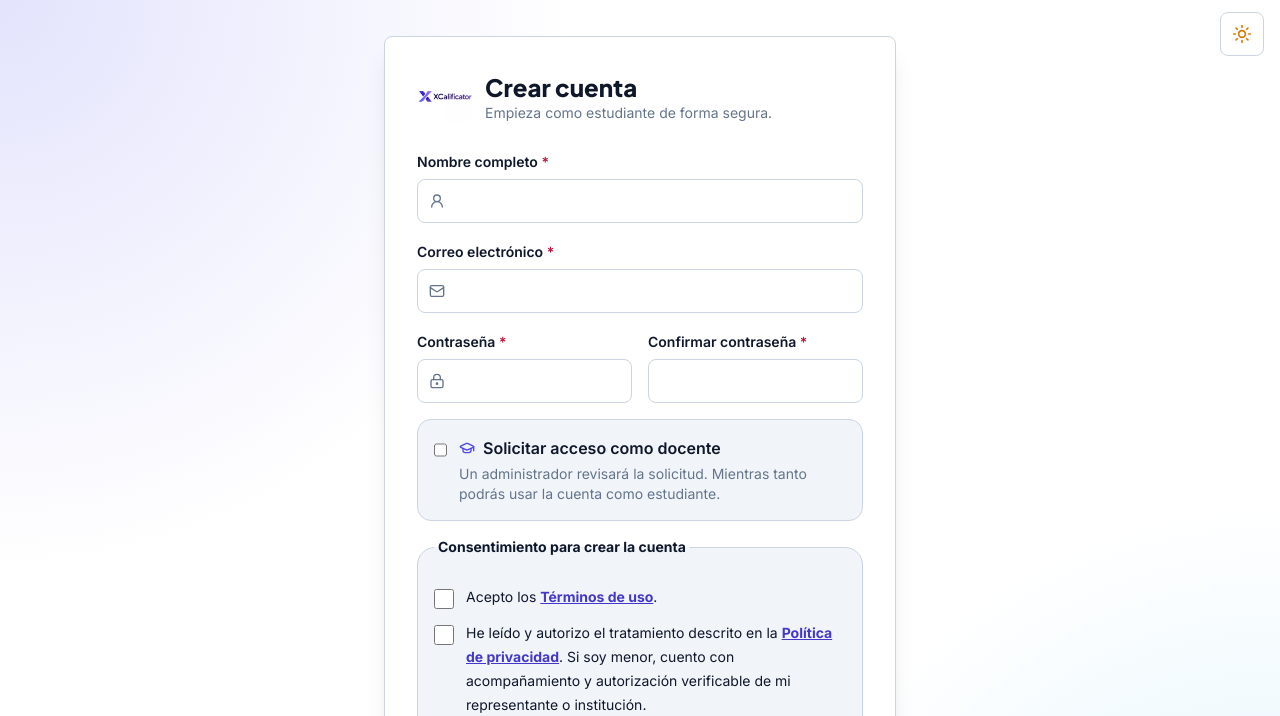
RegisterPage › keeps account creation disabled until both documents are accepted
Click the checkbox labelled "Acepto los Términos de uso ." at [444, 599], box x1=434 y1=589 x2=454 y2=609
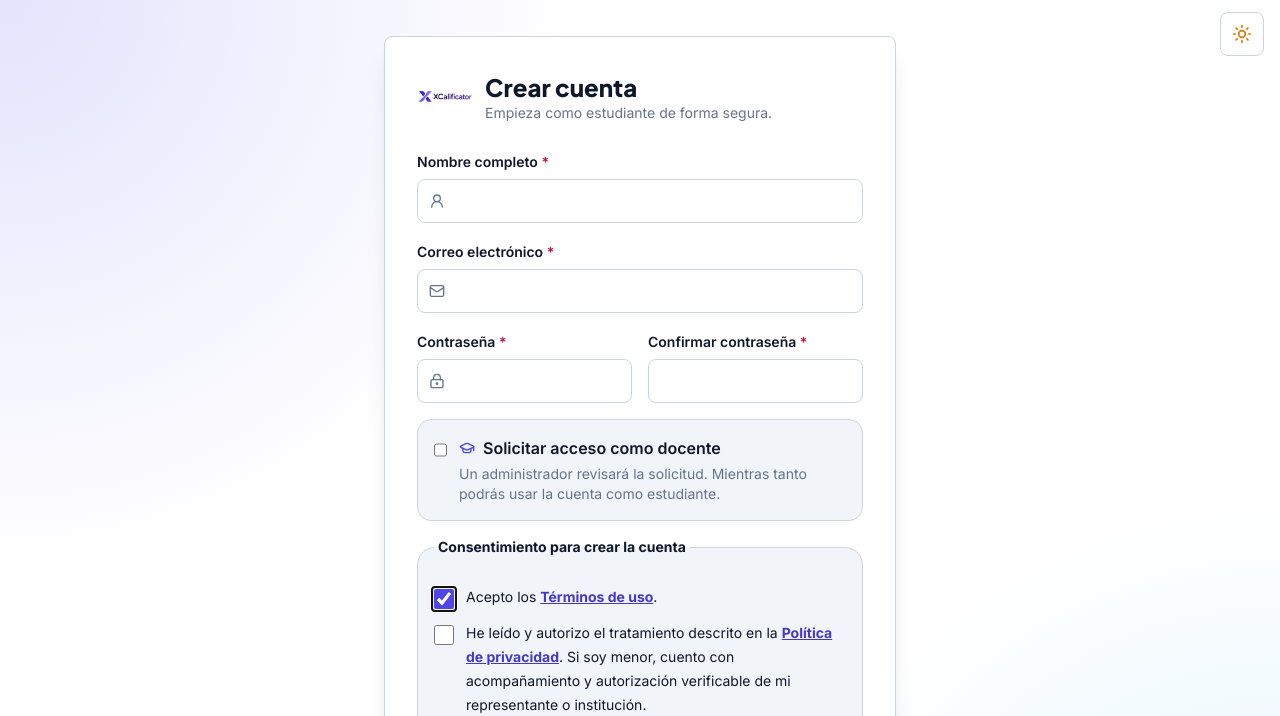
Click the checkbox labelled "He leído y autorizo" at [444, 635], box x1=434 y1=625 x2=454 y2=645
(page scrolled)
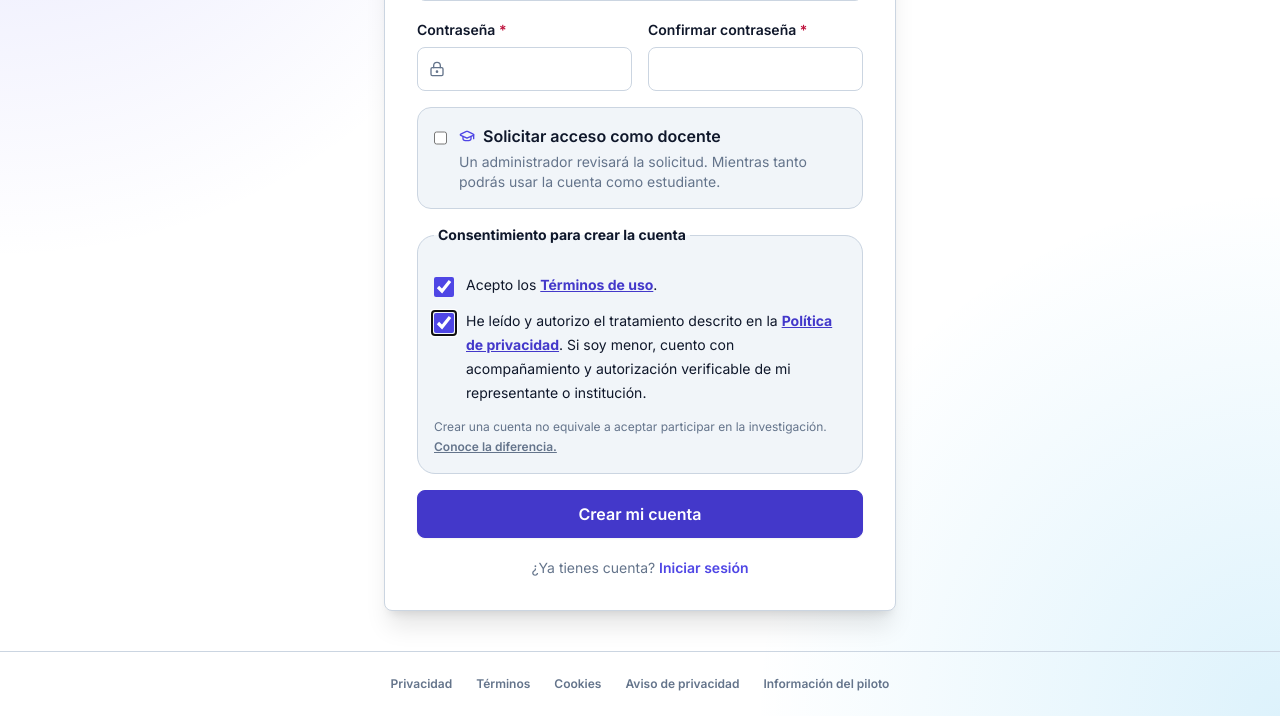
Expected: the button "Crear mi cuenta" is enabled, x1=417 y1=490 x2=863 y2=538
